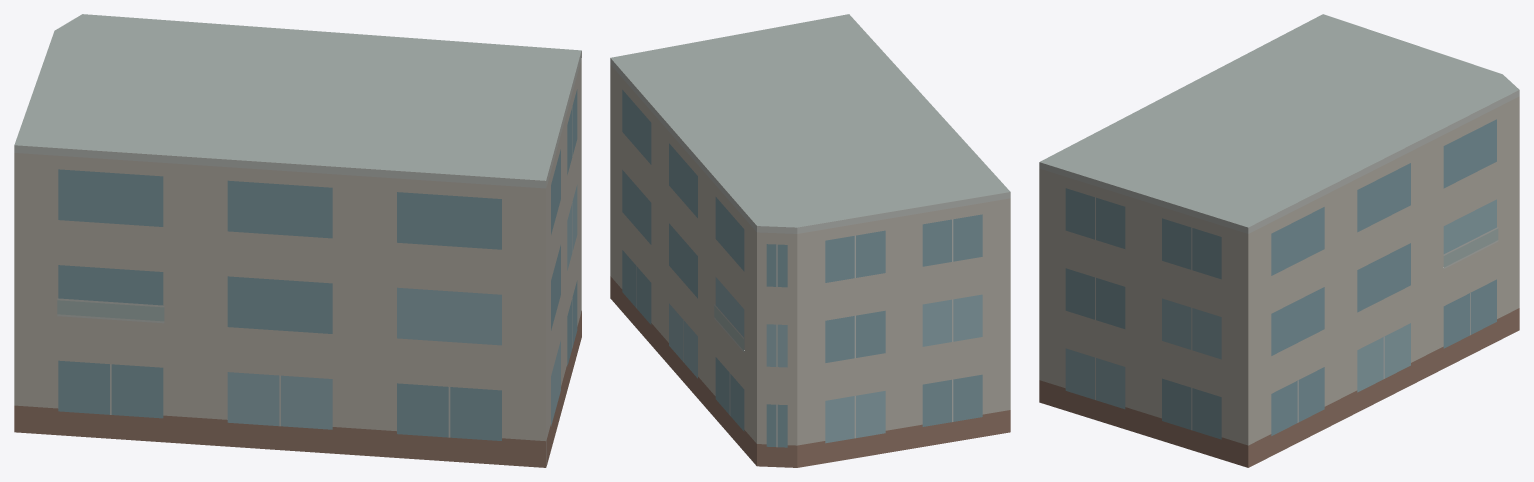
Rendered from survey-upis-32716632.glb.
The picture shows the model from 3 angles, left to right: view 1: azimuth 30°, elevation 25°; view 2: azimuth 150°, elevation 25°; view 3: azimuth 270°, elevation 25°; orthographic projection. The views are drawn at different scales.
Parts seen in each view (by area): view 1: survey-upis-32716632.tmp; view 2: survey-upis-32716632.tmp; view 3: survey-upis-32716632.tmp.
Part boxes in pixels (box(x1,y1,x2,y2)): survey-upis-32716632.tmp: box(14, 14, 581, 467); survey-upis-32716632.tmp: box(610, 14, 1010, 467); survey-upis-32716632.tmp: box(1039, 14, 1519, 467).
Size of the model in its own units: 17.45 by 9.15 by 16.59.
